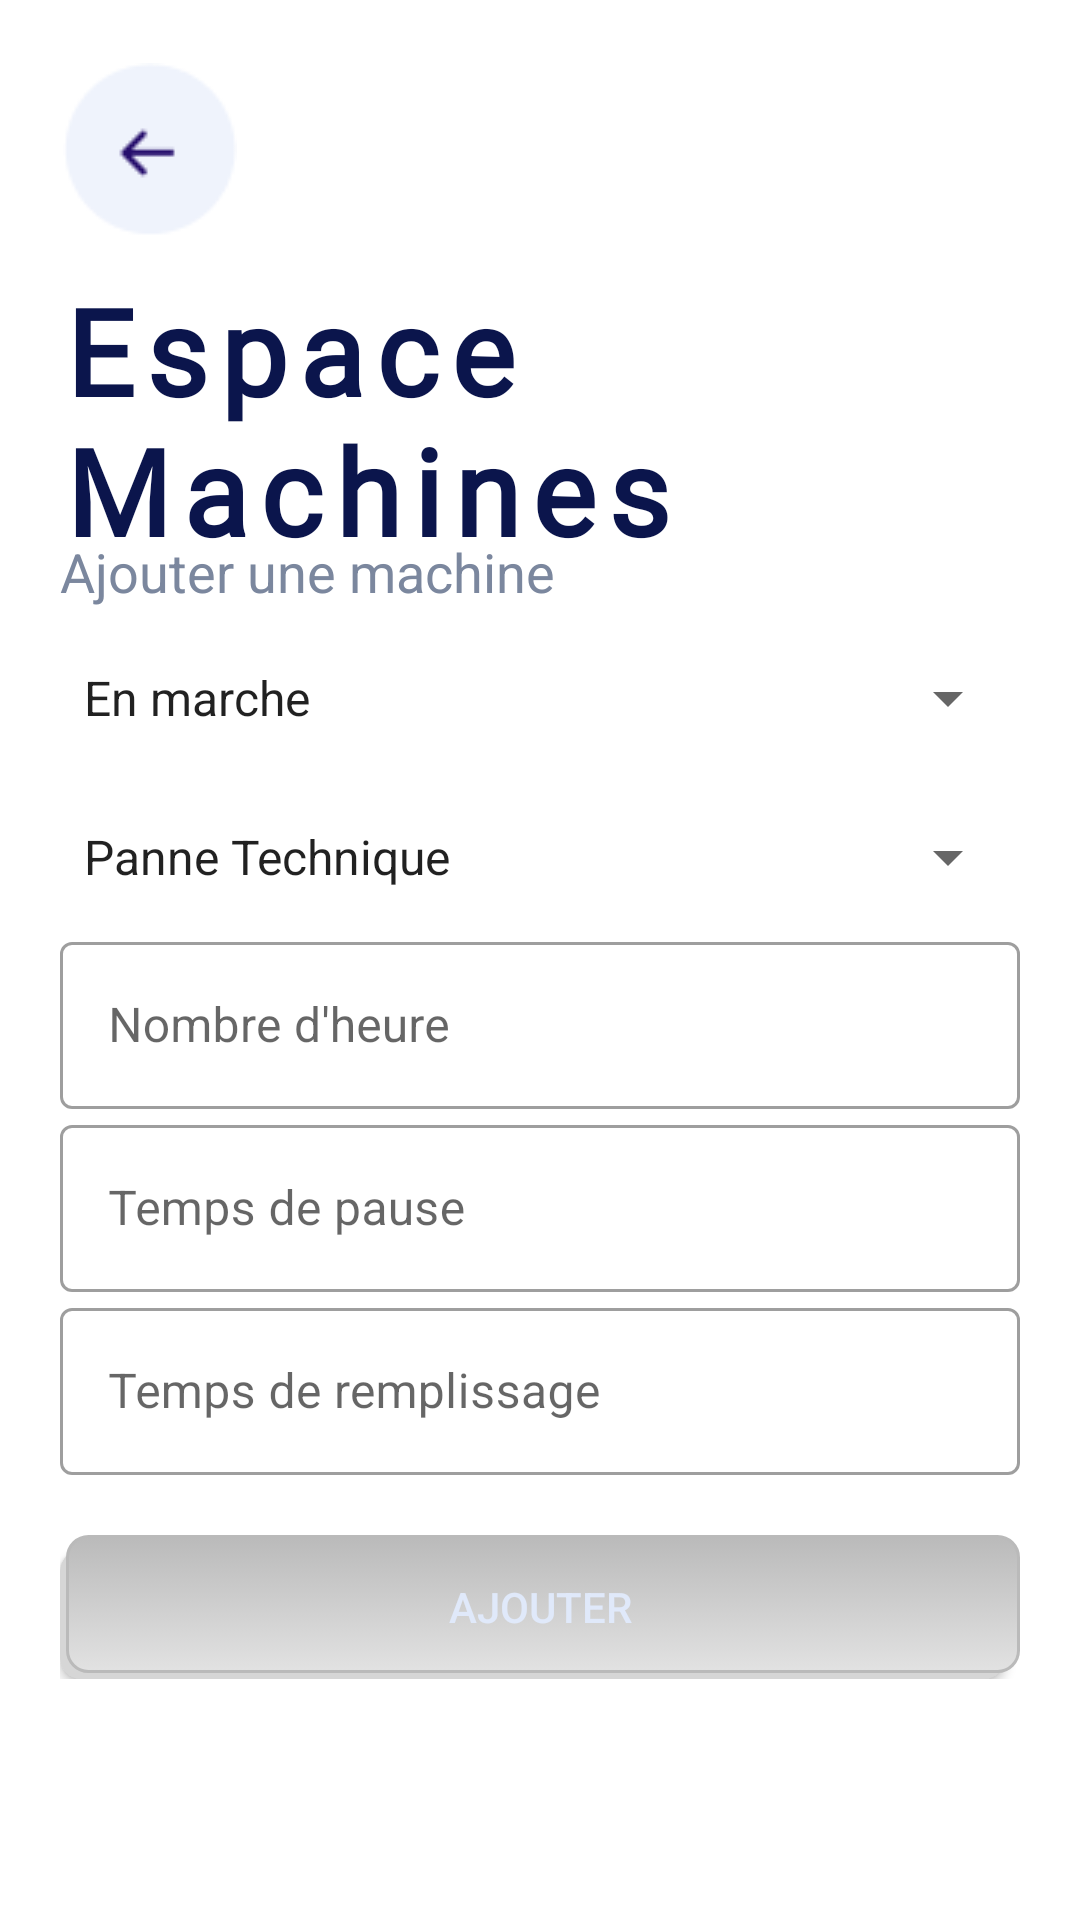

Screen size 1080px×1920px. Icon name, then its box in pixels as (x1, y1, x2, y2):
arrow: (66, 65, 235, 234)
